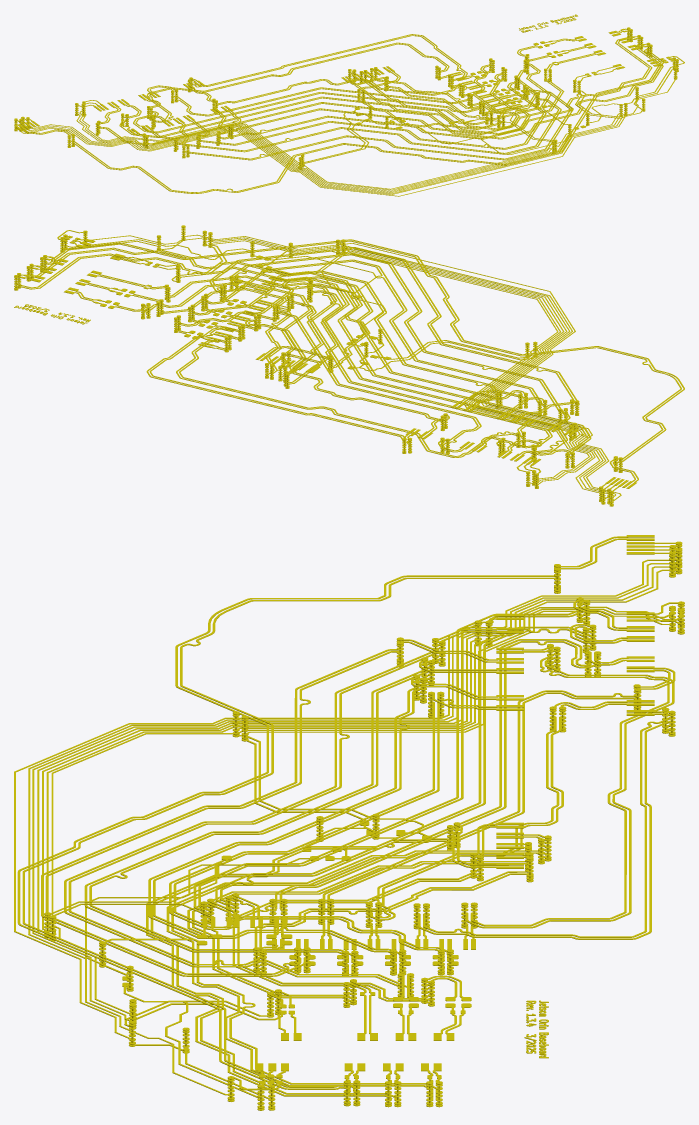
The model's file is jetson-orin-baseboard-hs.glb.
The picture shows the model from 3 angles, top to bottom: view 1: azimuth 30°, elevation 25°; view 2: azimuth 150°, elevation 25°; view 3: azimuth 270°, elevation 25°; orthographic projection. The views are drawn at different scales.
Parts seen in each view (by area): view 1: =>[0:1:1:2], =>[0:1:1:3], =>[0:1:1:4]; view 2: =>[0:1:1:2], =>[0:1:1:3], =>[0:1:1:4]; view 3: =>[0:1:1:2], =>[0:1:1:3], =>[0:1:1:4].
Part boxes in pixels (x1,y1,x2,y2): =>[0:1:1:2]: (14, 14, 684, 196); =>[0:1:1:3]: (14, 28, 674, 134); =>[0:1:1:4]: (15, 28, 677, 169); =>[0:1:1:2]: (14, 225, 684, 506); =>[0:1:1:3]: (21, 235, 636, 488); =>[0:1:1:4]: (15, 226, 621, 505); =>[0:1:1:2]: (14, 536, 684, 1110); =>[0:1:1:3]: (122, 535, 654, 1084); =>[0:1:1:4]: (47, 543, 681, 1109).
Size of the model in its own units: 0.0824 by 0.00161 by 0.0421.
